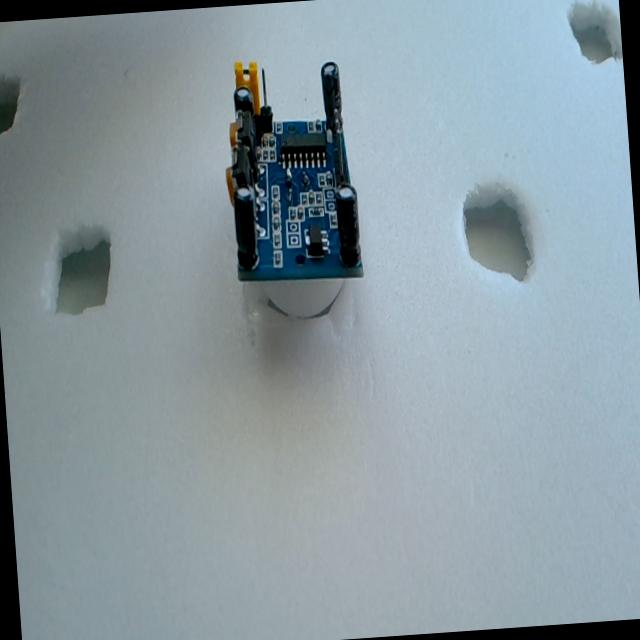Electrolytic capacitor: (331, 175, 366, 284), (228, 183, 259, 279), (320, 56, 353, 144)
IC: (277, 123, 330, 182)
